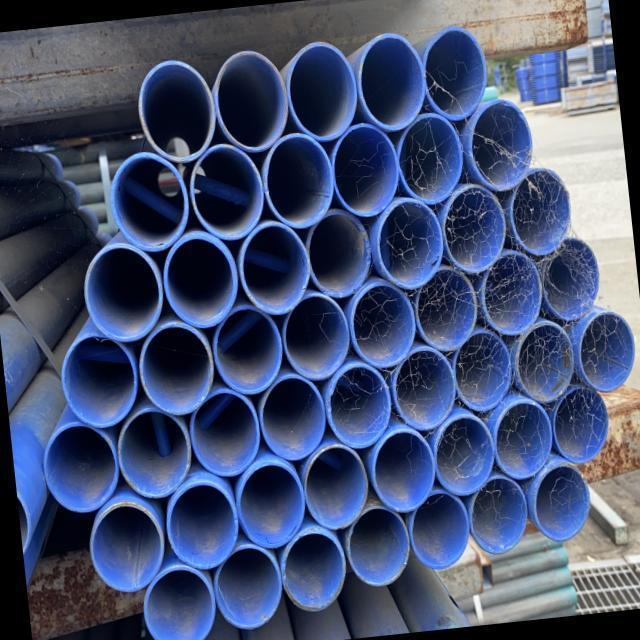pipe: (104, 146, 194, 257), (133, 55, 221, 167), (78, 237, 168, 346), (210, 46, 293, 157), (56, 327, 143, 431), (184, 138, 268, 245), (158, 227, 243, 332), (134, 316, 218, 419), (282, 38, 362, 146), (38, 417, 123, 518), (112, 402, 197, 502), (85, 496, 170, 596), (353, 29, 431, 135), (259, 129, 339, 232), (235, 217, 315, 320), (161, 475, 243, 574), (184, 383, 265, 481), (327, 118, 404, 221), (371, 193, 449, 293), (209, 299, 287, 398), (418, 22, 492, 124), (232, 455, 309, 552), (392, 109, 467, 208), (278, 288, 355, 384), (302, 204, 376, 302), (210, 539, 287, 633), (464, 95, 537, 194), (438, 180, 512, 277), (256, 369, 331, 464), (346, 276, 420, 371), (322, 358, 396, 452), (299, 439, 373, 532), (410, 261, 483, 355), (367, 424, 441, 516), (506, 164, 576, 259), (388, 343, 460, 435), (278, 524, 351, 614), (477, 247, 546, 340), (535, 232, 604, 325), (139, 561, 220, 640), (343, 500, 414, 590), (449, 324, 517, 414), (404, 485, 474, 572), (511, 317, 579, 406), (431, 410, 499, 498), (490, 395, 557, 482), (465, 471, 532, 557), (528, 459, 595, 545), (575, 307, 640, 395), (548, 381, 613, 467)
